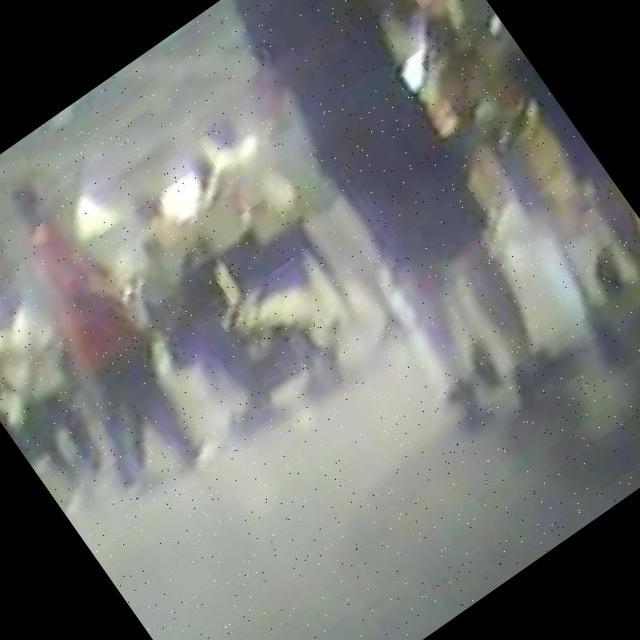person: (175, 0, 640, 437), (323, 0, 640, 336), (0, 160, 231, 507), (217, 64, 448, 350), (147, 132, 362, 402), (182, 100, 380, 346), (100, 190, 296, 428), (0, 226, 134, 491)
